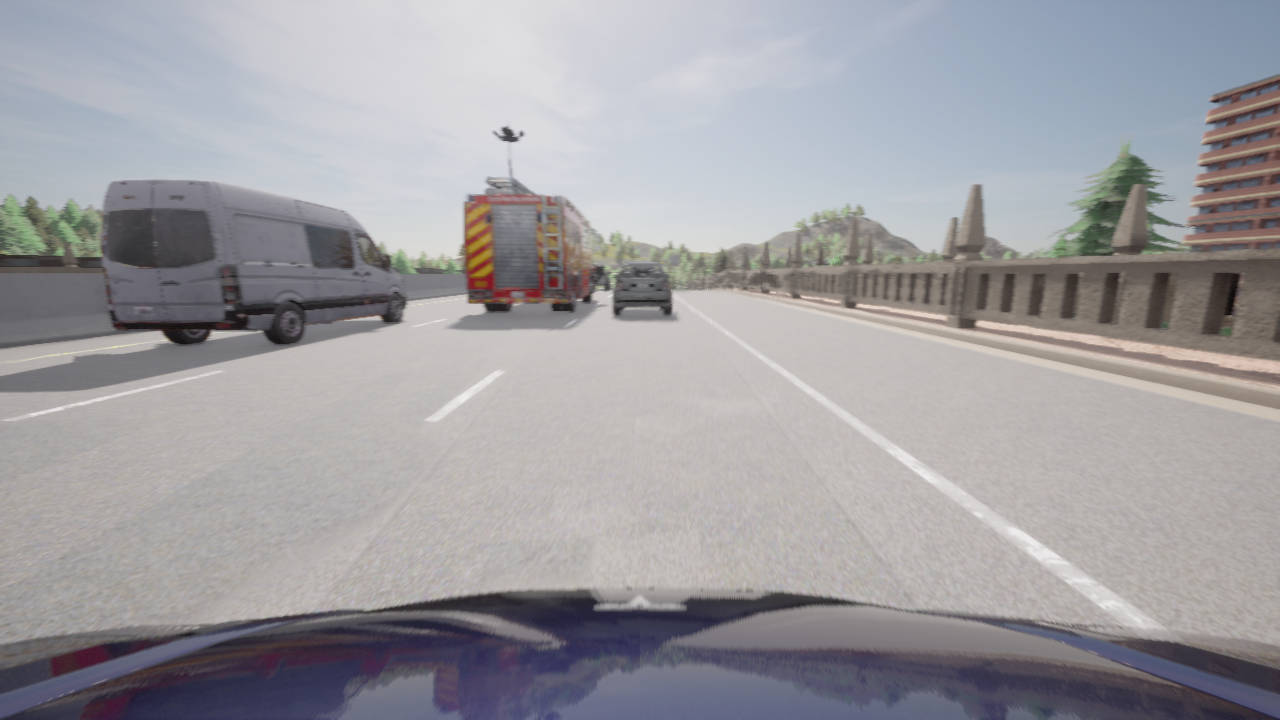cyclist: (0, 588, 1279, 719), (98, 180, 406, 344), (464, 177, 599, 311), (612, 262, 671, 315), (593, 265, 609, 289)
